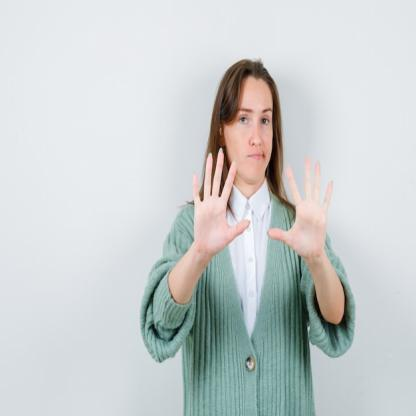stop: (266, 150, 335, 266), (191, 145, 252, 258)
